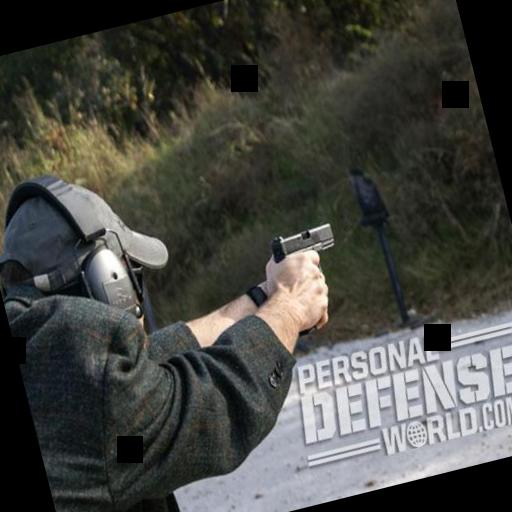Handgun: (267, 216, 354, 338)
